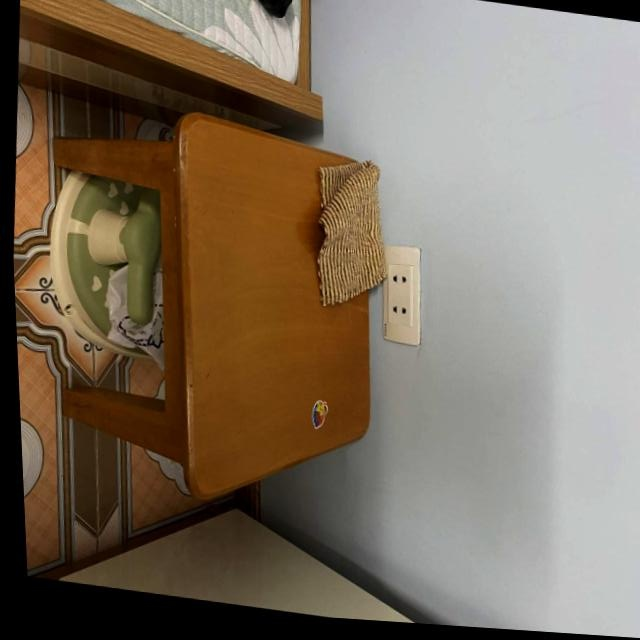outlet: (377, 241, 429, 347)
